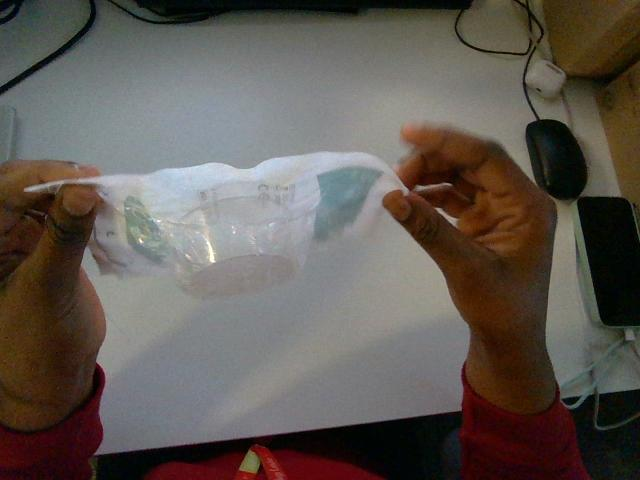gallipot: (27, 152, 404, 297)
